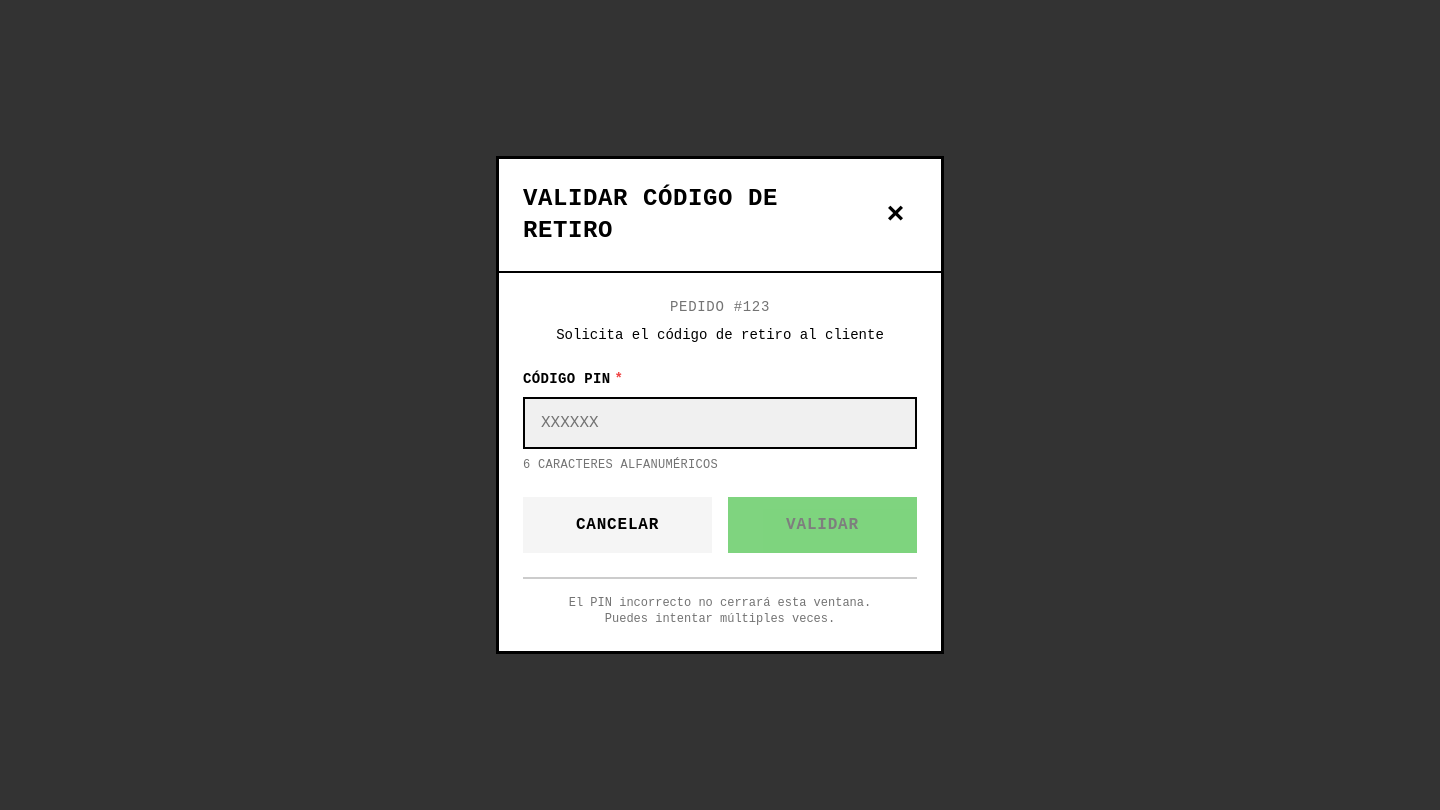
it: PinValidationModal - Critical Flow › limits PIN input to 6 characters
The width and height of the screenshot is (1440, 810).
Step 1. Type "ABCD1234567890" into the field with placeholder "XXXXXX" → (720,423), box [523, 397, 917, 449]
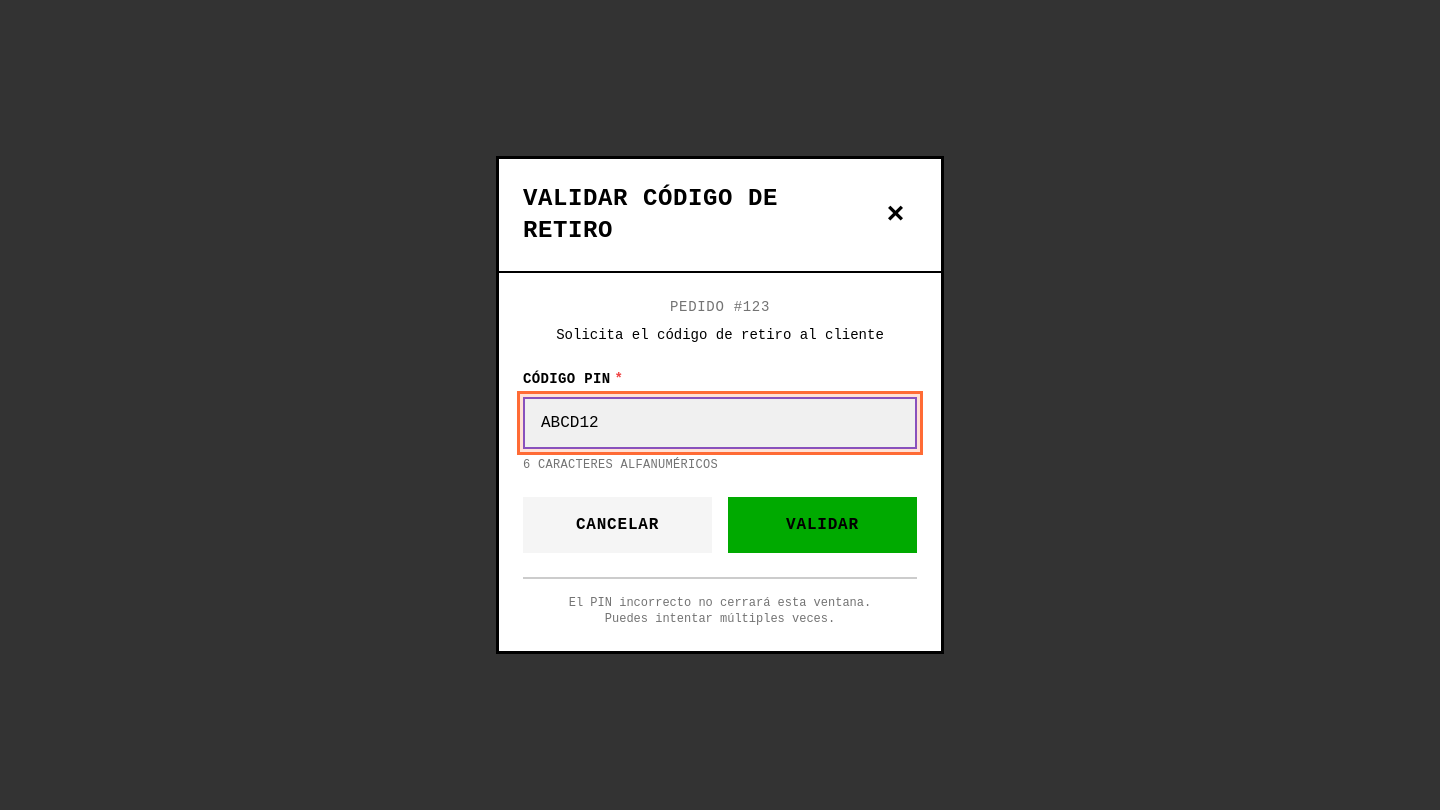
Expected: the field with placeholder "XXXXXX" holds "ABCD12", [523, 397, 917, 449]
